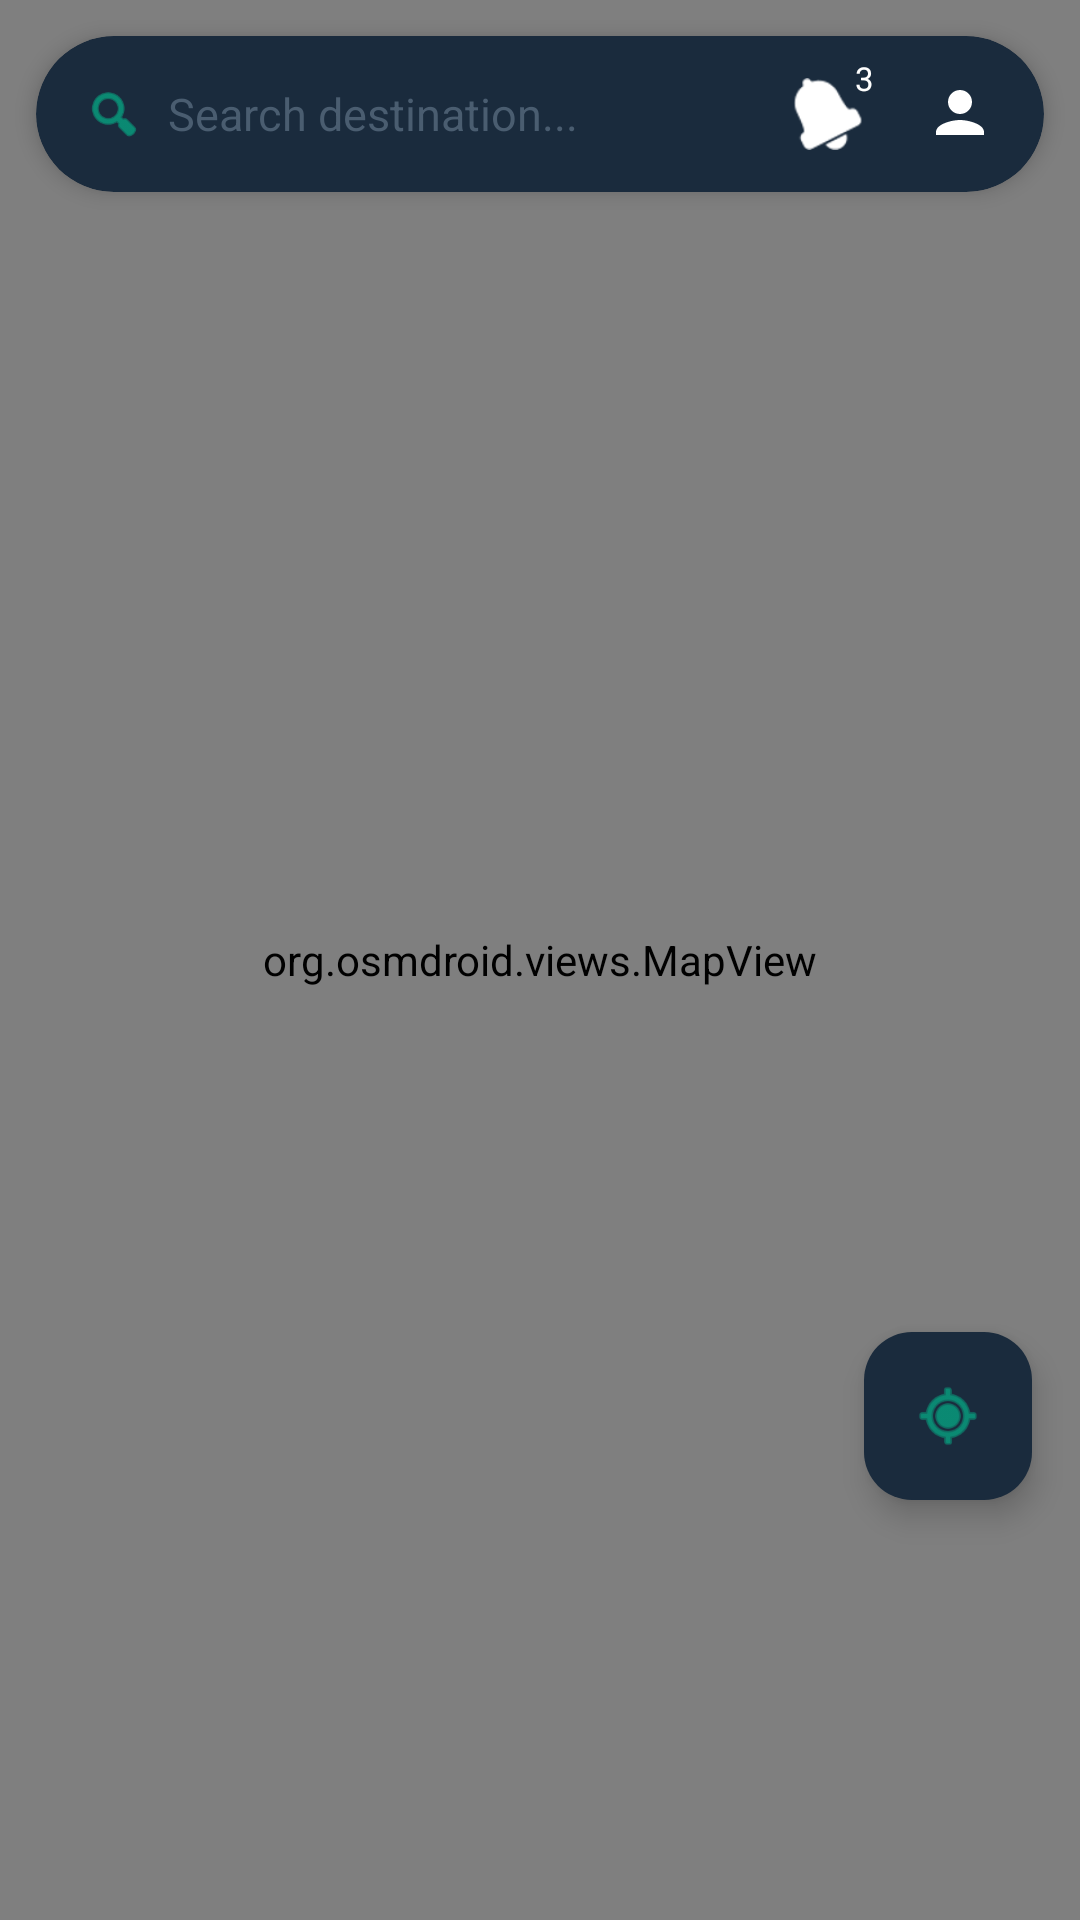

Locate icon controls on the screen. Image size 1080x1920, boxes as (x1, y1, x2, y2).
mylocation: (864, 1332, 1032, 1500)
person: (936, 90, 984, 135)
popup reminder: (794, 67, 872, 150)
